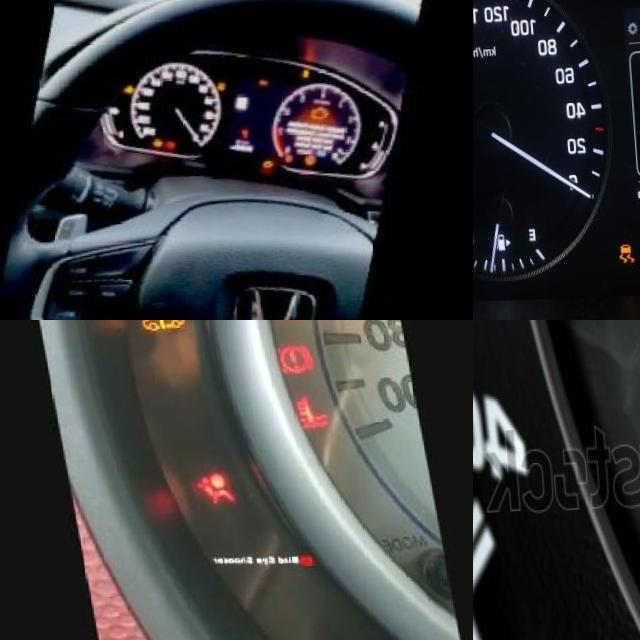Engine cooling system: (274, 400, 316, 442)
